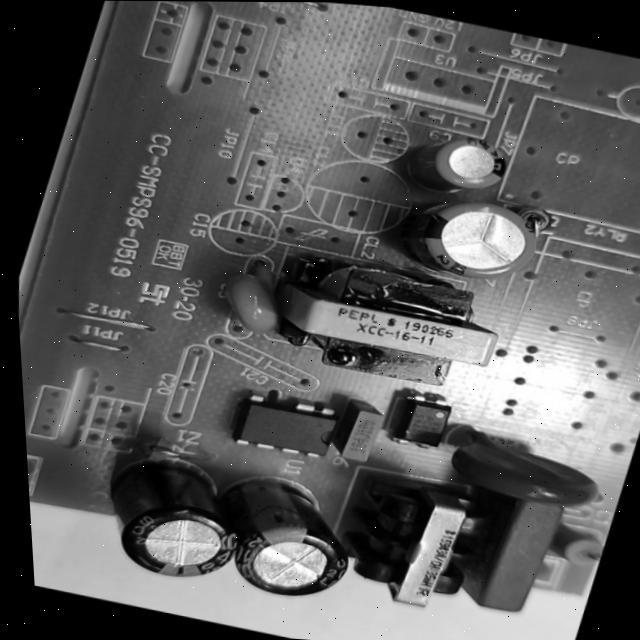Cap1: (366, 174, 574, 304)
Cap2: (390, 111, 539, 208)
Cap3: (182, 457, 389, 615)
Cap4: (71, 430, 268, 594)
MOSFET: (211, 380, 371, 472)
Mov: (426, 416, 632, 530)
Resistor: (534, 517, 612, 579)
Transformer: (245, 235, 530, 404), (313, 457, 520, 629)
